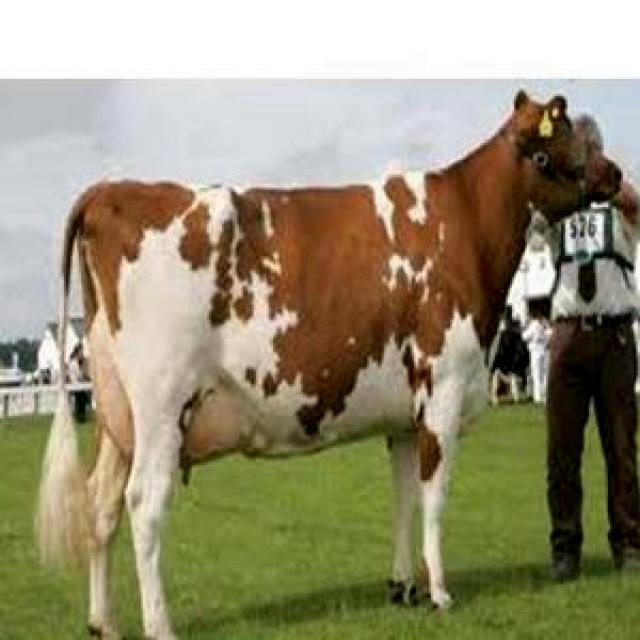COW: (39, 92, 621, 640)
